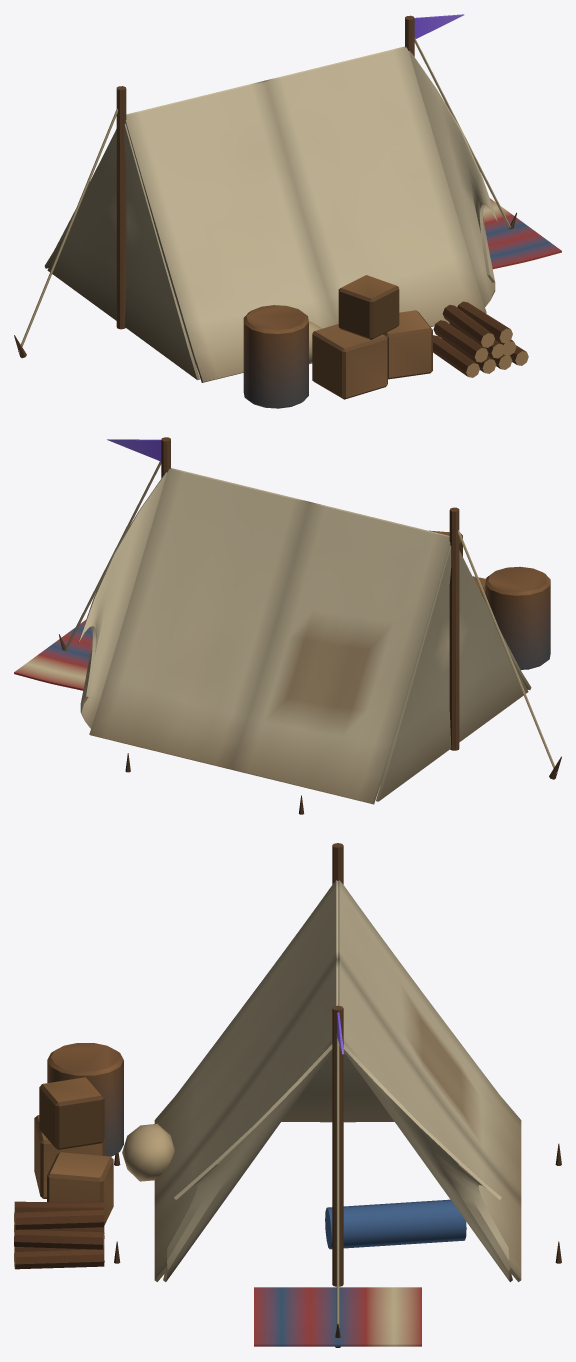
Rendered from tent.glb.
The picture shows the model from 3 angles, top to bottom: view 1: azimuth 30°, elevation 25°; view 2: azimuth 150°, elevation 25°; view 3: azimuth 270°, elevation 25°; orthographic projection. The views are drawn at different scales.
Visible parts, largest first — view 1: tent; view 2: tent; view 3: tent.
Boxes of the visible parts, <box> form: tent: <box>14,14,561,408</box>; tent: <box>14,437,561,814</box>; tent: <box>14,843,561,1347</box>.
Size of the model in its own units: 6.49 by 3.01 by 5.21.
